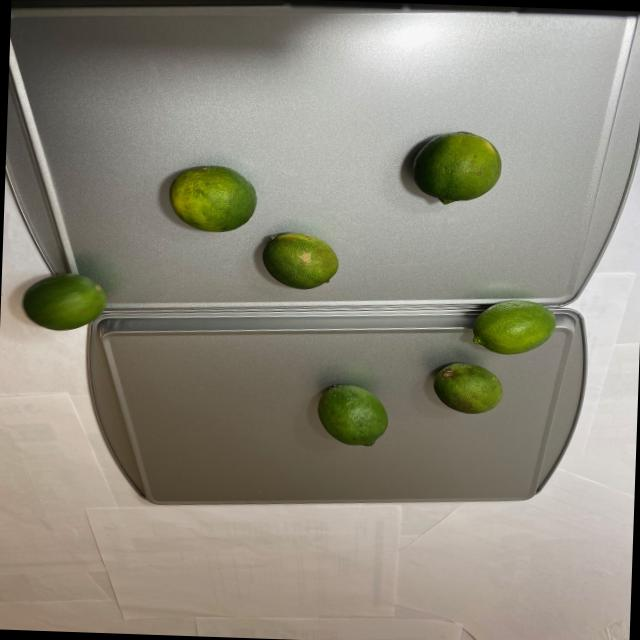lemon: (21, 109, 504, 344), (310, 281, 556, 452)
